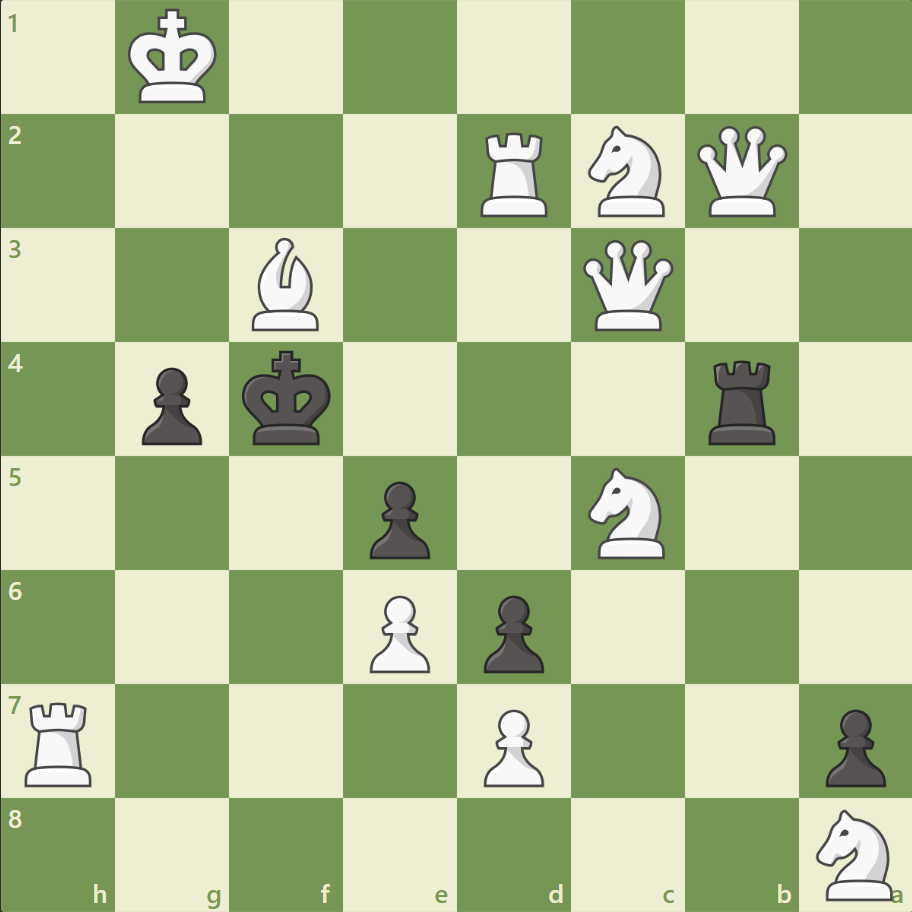B: (244, 233, 328, 336)
K: (124, 4, 224, 112)
N: (579, 461, 676, 564), (806, 802, 903, 904), (579, 121, 676, 223)
P: (474, 700, 549, 791), (361, 586, 435, 677)
Q: (691, 122, 790, 222), (578, 236, 677, 335)
R: (19, 693, 102, 790), (473, 125, 556, 222)
k: (238, 344, 338, 452)
p: (474, 586, 549, 677), (133, 359, 208, 450), (815, 700, 889, 791), (361, 473, 435, 564)
r: (700, 352, 783, 449)
